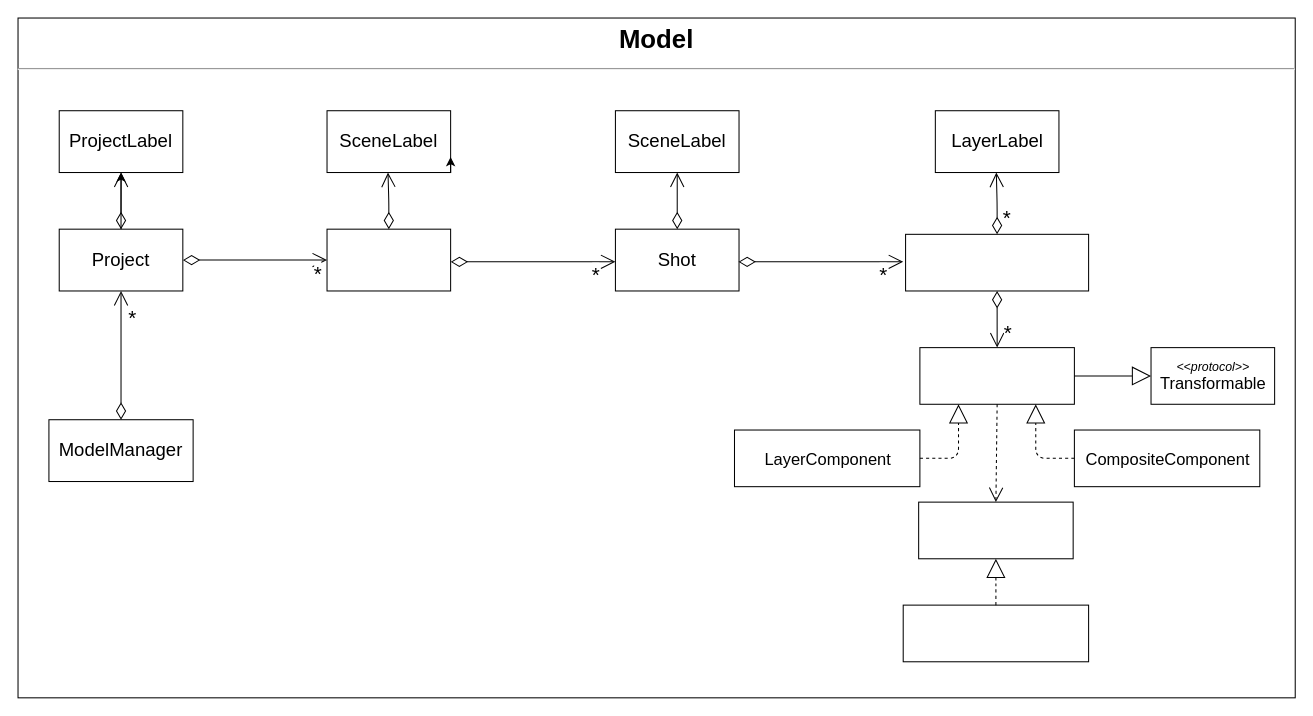
This 1313x716 diagram has some shape labels left out. The shapes that lost their labels are listed below. From the top down, each one's box as (x1, y1, x2, y2) in pixels, then its label:
(326, 228, 451, 291): Scene
(905, 233, 1089, 291): Layer
(919, 347, 1074, 404): <<protocol>> LayerComponent
(918, 501, 1073, 559): <<protocol>> LayerMerger
(902, 604, 1089, 662): NormalLayerMerger
